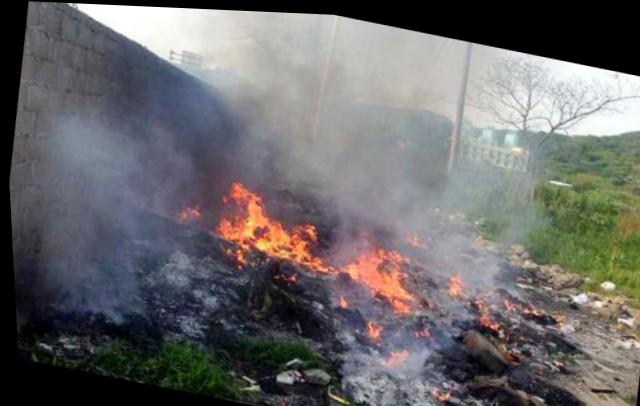fire: (367, 261, 418, 302), (253, 212, 286, 254), (342, 245, 381, 280), (212, 216, 252, 244), (222, 175, 256, 202), (284, 234, 312, 263), (237, 196, 259, 222), (442, 270, 465, 292), (359, 312, 377, 334), (331, 290, 346, 302)
